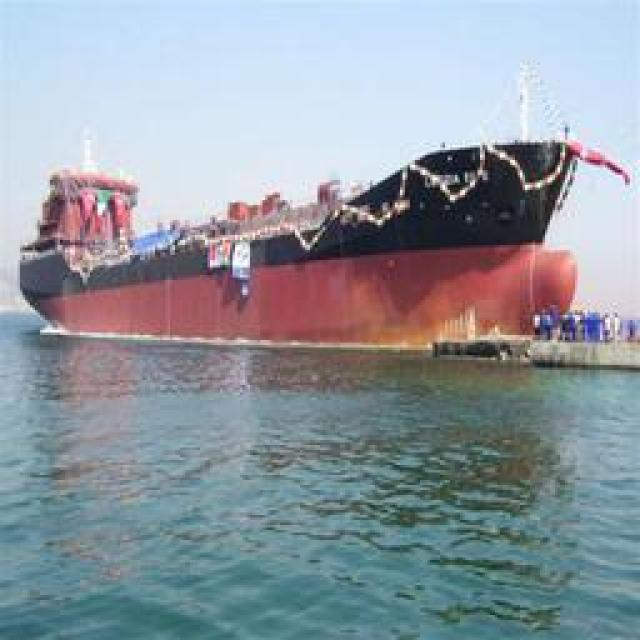CIV_Ship: (20, 128, 625, 356)
